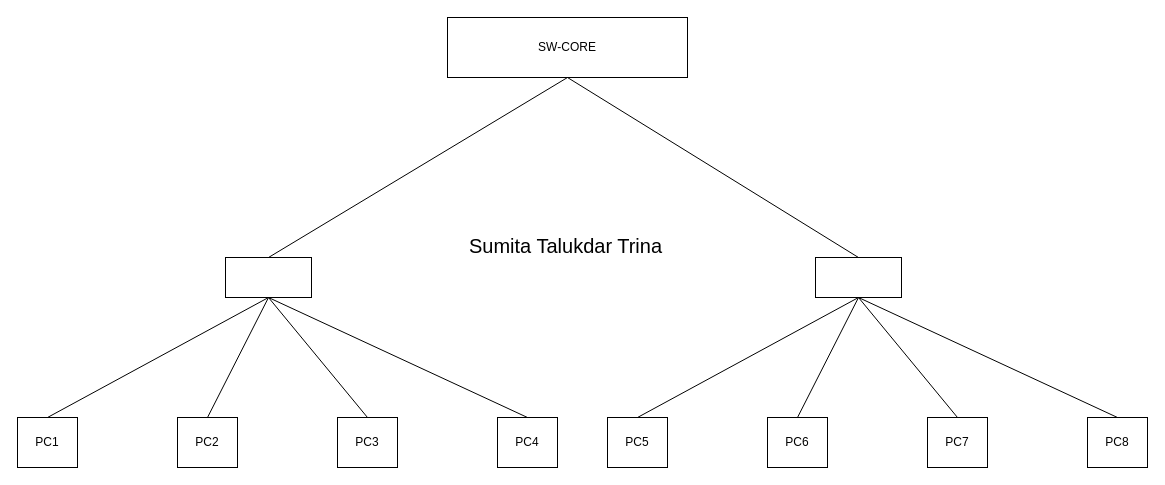
Some shapes in this 1165 by 485 pixel diagram are drawn without their labels. The box of each missing label's shape, as (x1, y1, x2, y2) in pixels:
SW1: (224, 256, 312, 298)
SW2: (814, 256, 902, 298)
